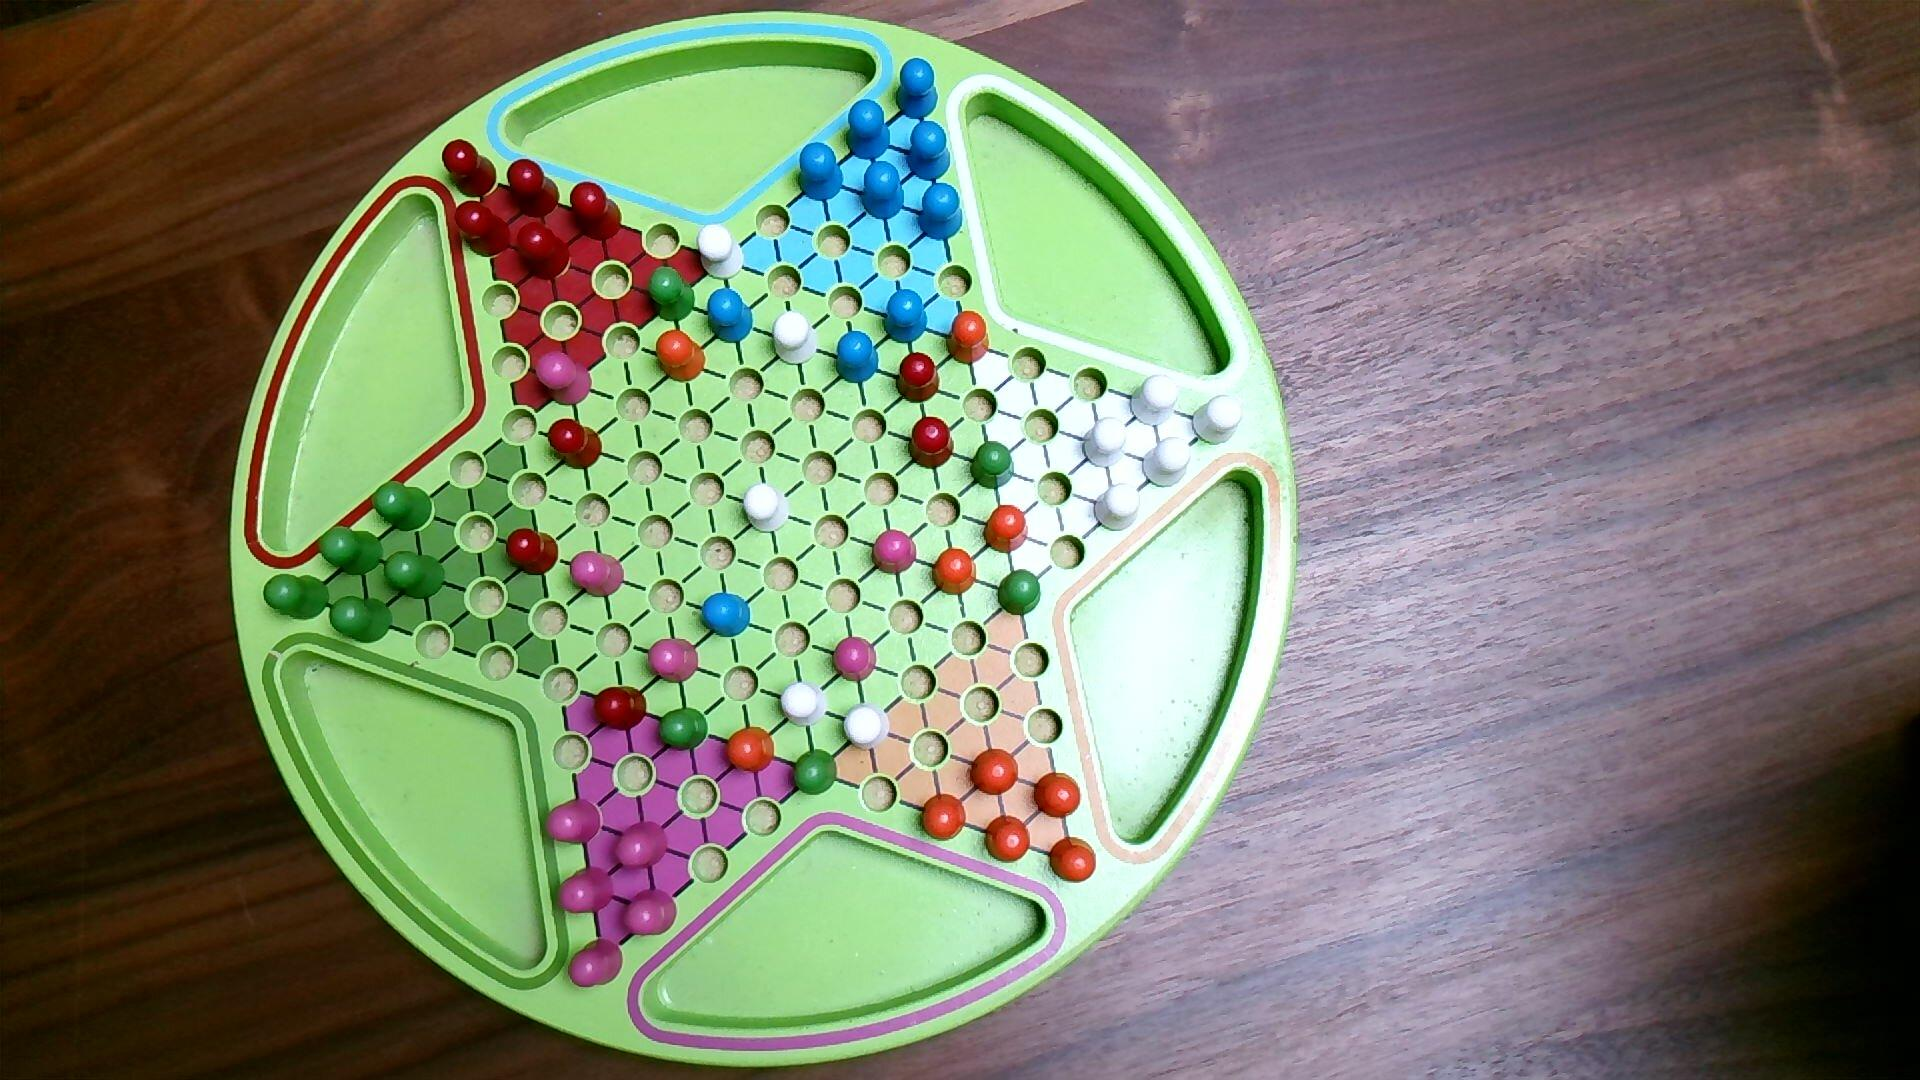B: (795, 141, 847, 204), (905, 120, 953, 183), (858, 160, 906, 223), (845, 98, 891, 162), (894, 57, 940, 121), (705, 286, 756, 345), (916, 182, 965, 243), (882, 287, 930, 345), (833, 328, 880, 386), (700, 591, 753, 640)
G: (316, 525, 386, 579), (369, 480, 436, 534), (261, 572, 332, 622), (328, 595, 396, 646), (382, 550, 447, 603), (646, 265, 698, 324), (657, 707, 711, 754), (996, 568, 1043, 618), (791, 748, 839, 798), (969, 440, 1015, 491)
O: (654, 328, 708, 386), (945, 309, 992, 368), (982, 814, 1033, 865), (1033, 770, 1083, 822), (969, 748, 1021, 798), (724, 727, 777, 775), (982, 502, 1030, 556), (1048, 835, 1098, 885), (931, 546, 978, 597), (920, 793, 968, 843)
R: (454, 199, 513, 260), (516, 220, 574, 282), (440, 138, 498, 200), (567, 179, 624, 243), (505, 157, 562, 220), (546, 417, 604, 472), (589, 684, 649, 733), (906, 415, 956, 472), (505, 527, 560, 578), (895, 351, 943, 406)
R2: (534, 349, 595, 407), (567, 936, 626, 992), (555, 864, 616, 916), (543, 796, 604, 847), (621, 887, 679, 939), (568, 549, 626, 600), (613, 820, 670, 872), (646, 637, 702, 686), (870, 527, 919, 578), (829, 636, 878, 683)
W: (695, 224, 746, 284), (1191, 393, 1245, 448), (1129, 372, 1180, 429), (771, 310, 822, 368), (1141, 436, 1193, 491), (741, 481, 793, 535), (1081, 415, 1130, 471), (841, 702, 891, 753), (1093, 483, 1142, 535), (779, 680, 828, 729)
